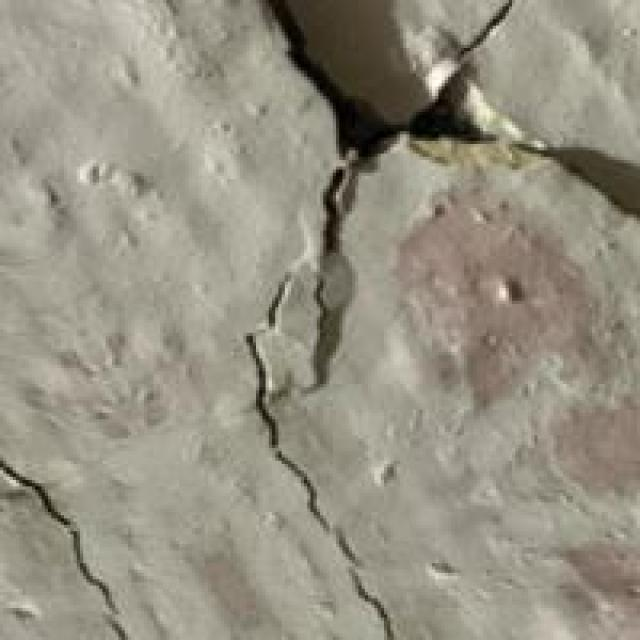crack: (173, 0, 595, 608)
